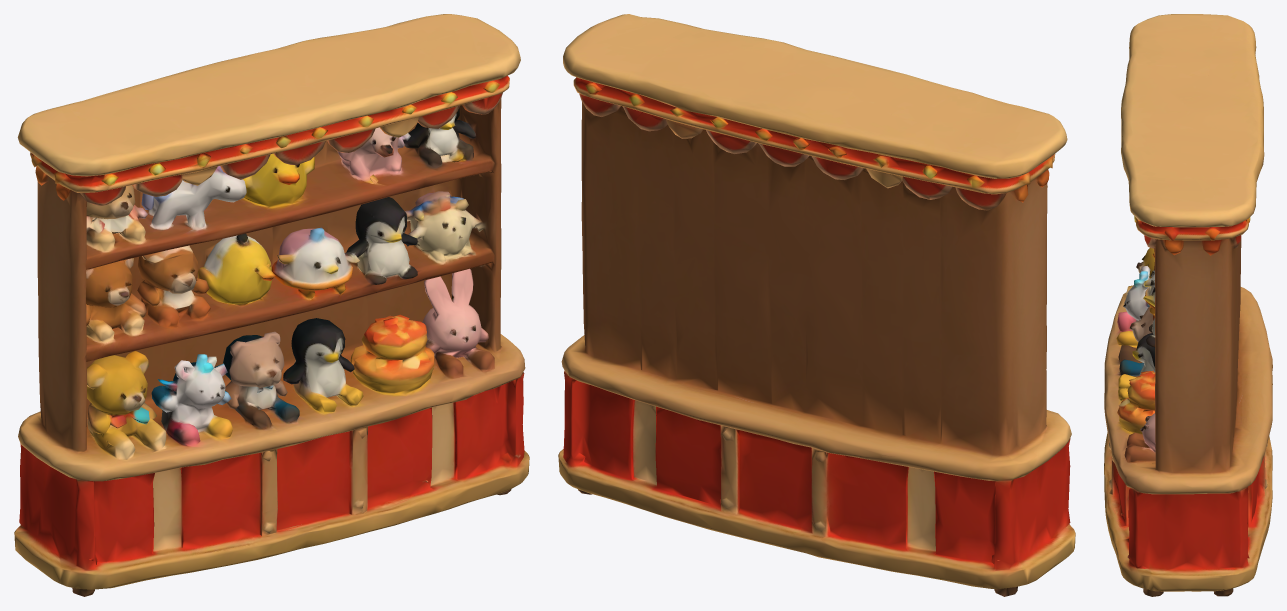
File: prize-shelf.glb
The picture shows the model from 3 angles, left to right: view 1: azimuth 30°, elevation 25°; view 2: azimuth 150°, elevation 25°; view 3: azimuth 270°, elevation 25°; orthographic projection. The views are drawn at different scales.
Visible parts, largest first — view 1: tripo_node_9620a5f0-3f01-4a1d-a40d-71e6c16f6262; view 2: tripo_node_9620a5f0-3f01-4a1d-a40d-71e6c16f6262; view 3: tripo_node_9620a5f0-3f01-4a1d-a40d-71e6c16f6262.
Part boxes in pixels (bbox=[...]): tripo_node_9620a5f0-3f01-4a1d-a40d-71e6c16f6262: bbox=[14, 14, 529, 596]; tripo_node_9620a5f0-3f01-4a1d-a40d-71e6c16f6262: bbox=[558, 14, 1075, 596]; tripo_node_9620a5f0-3f01-4a1d-a40d-71e6c16f6262: bbox=[1104, 14, 1272, 596].
Size of the model in its own units: 1 by 0.8853 by 0.3459.
Materials: 1 (1 with a texture image).
